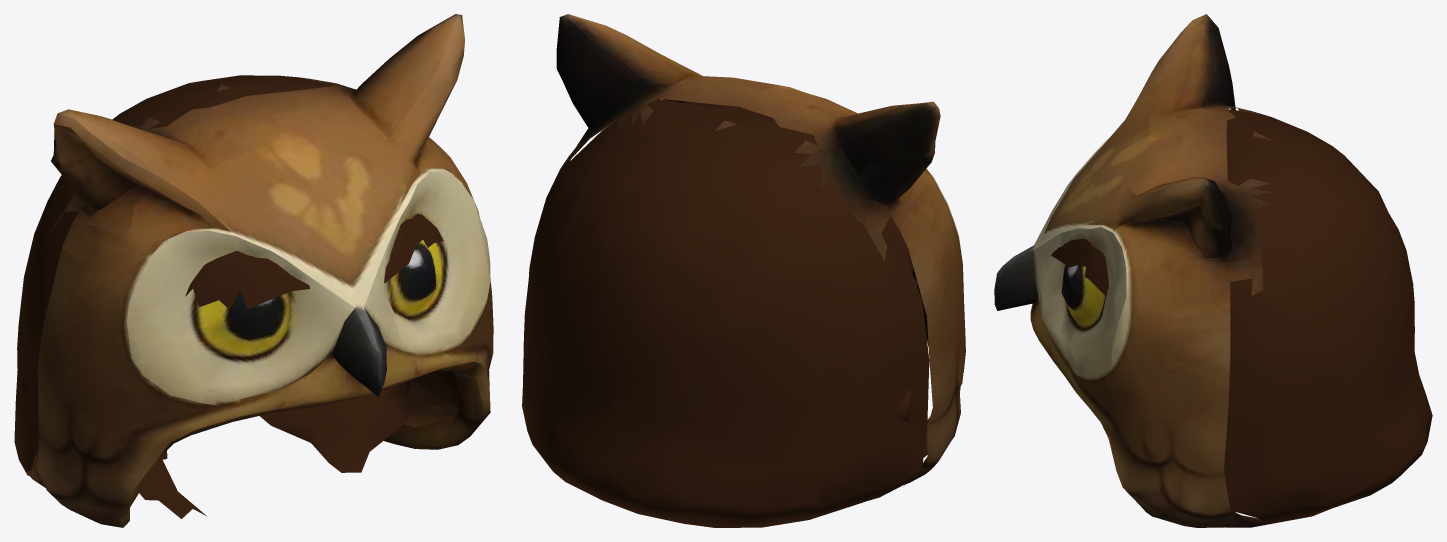
The model's file is owl.glb.
The picture shows the model from 3 angles, left to right: view 1: azimuth 30°, elevation 25°; view 2: azimuth 150°, elevation 25°; view 3: azimuth 270°, elevation 25°; orthographic projection. The views are drawn at different scales.
Visible parts, largest first — view 1: geometry_0, HoodAnatomicalLining; view 2: geometry_0, HoodAnatomicalLining; view 3: geometry_0, HoodAnatomicalLining.
Part boxes in pixels (x1,y1,x2,y2): geometry_0: (14,14,493,527); HoodAnatomicalLining: (19,122,443,518); geometry_0: (522,14,965,527); HoodAnatomicalLining: (683,101,917,422); geometry_0: (994,14,1432,527); HoodAnatomicalLining: (1051,126,1259,296).
Size of the model in its own units: 0.483 by 0.4697 by 0.5007.
2 materials, 1 textured.
